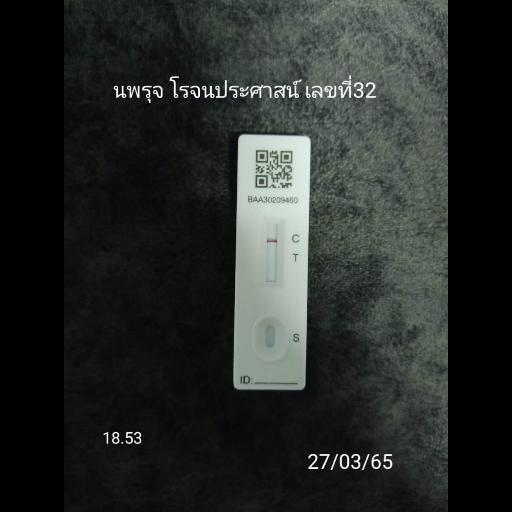Neg: (236, 132, 308, 396)
